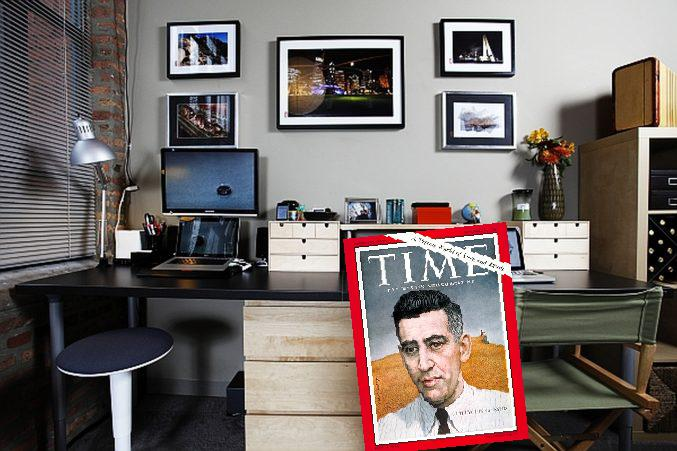times: (340, 222, 531, 451)
